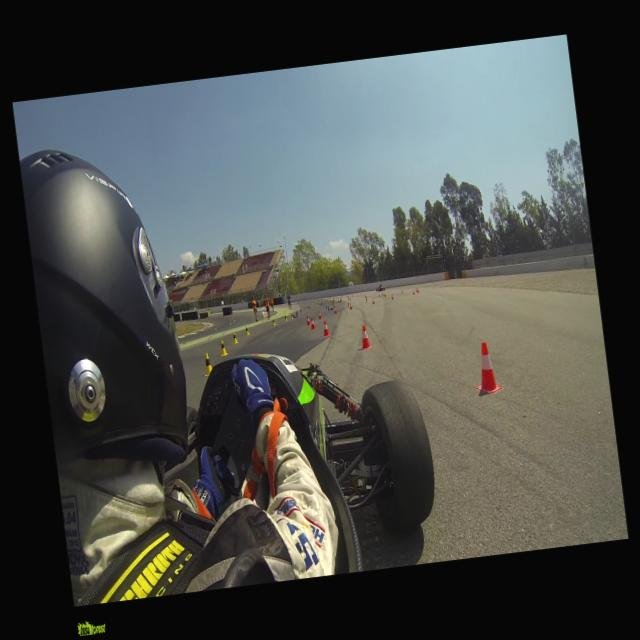orange_cone: (471, 341, 502, 394), (358, 324, 372, 350), (320, 319, 330, 336), (309, 317, 316, 330), (305, 316, 311, 326), (317, 312, 322, 320), (333, 306, 338, 314), (389, 294, 394, 300), (348, 302, 352, 309), (371, 298, 375, 304), (414, 286, 418, 292), (416, 288, 419, 293), (412, 290, 415, 294)
yellow_cone: (202, 352, 212, 374), (218, 340, 227, 356), (231, 331, 238, 344), (243, 325, 250, 335), (271, 317, 276, 325), (284, 314, 288, 320), (290, 313, 292, 318)
